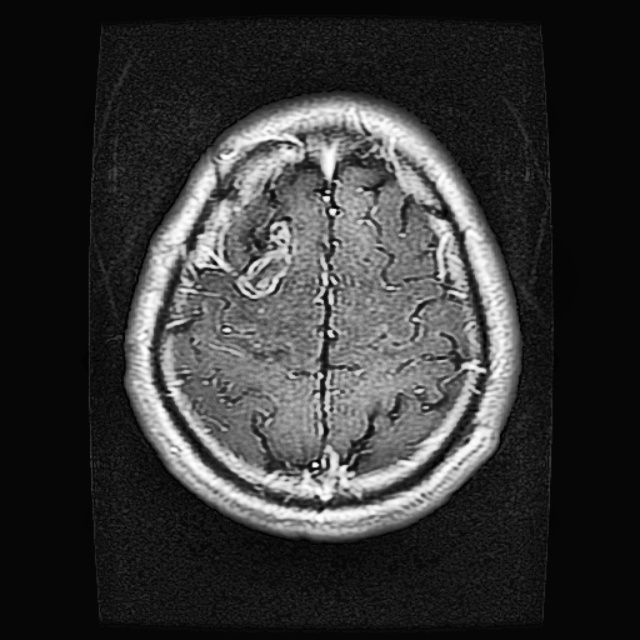Glioma: (234, 215, 293, 300)
